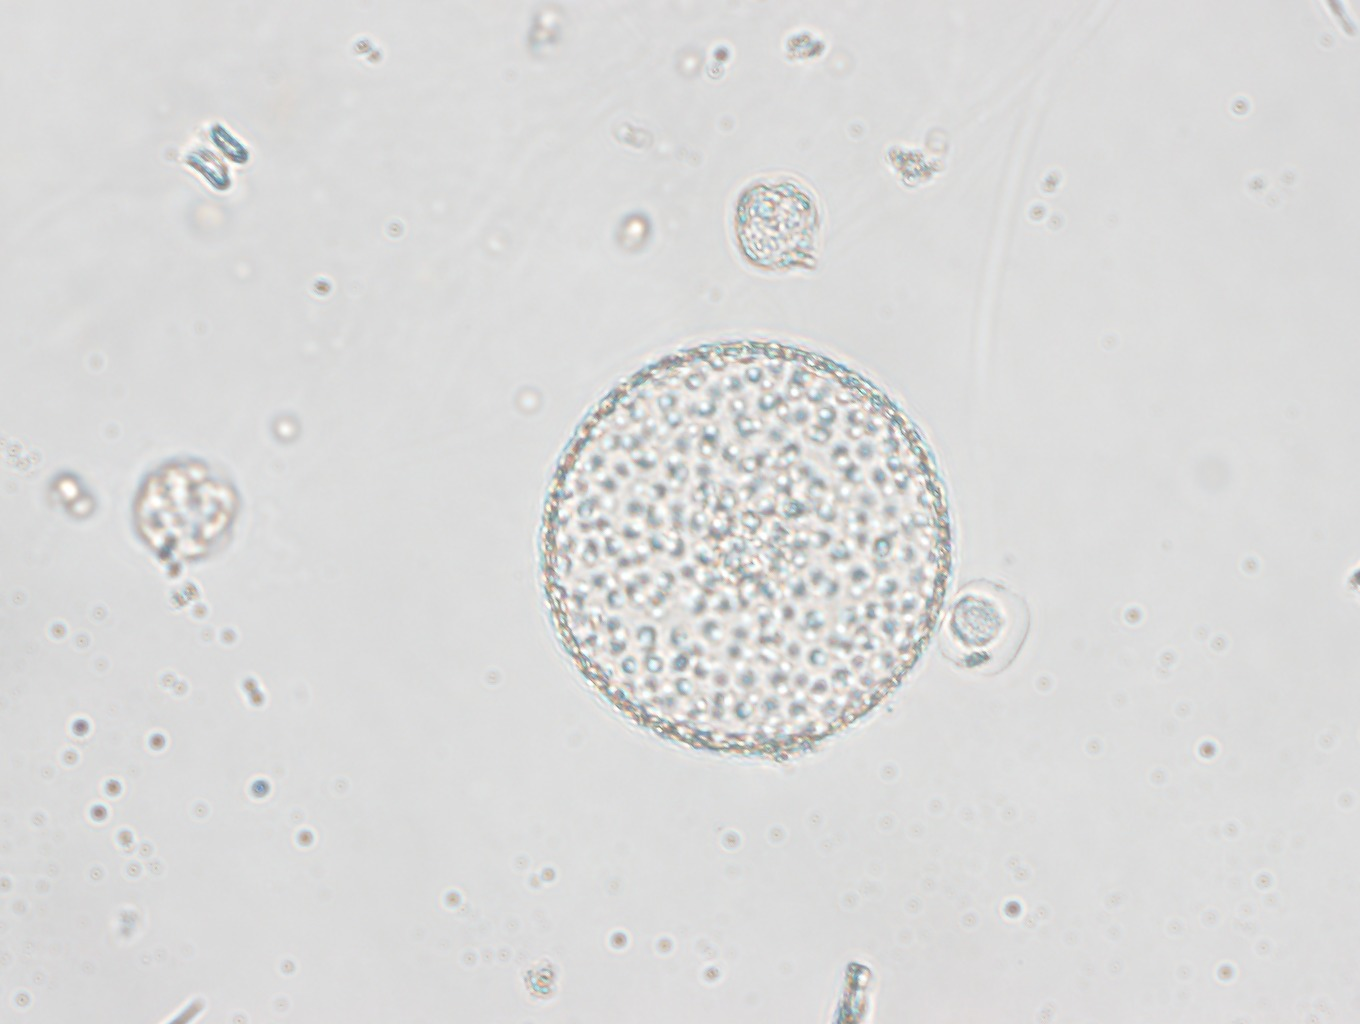coscinodiscus: (530, 337, 973, 760)
